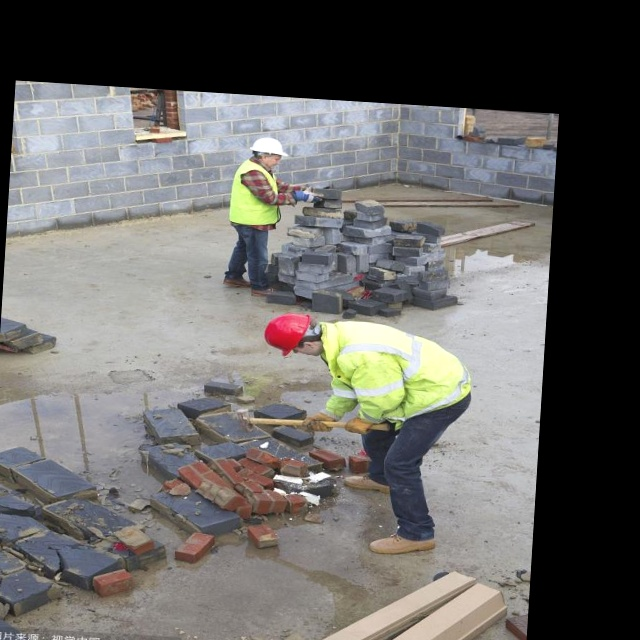Con_Chaleco: (319, 318, 475, 431), (225, 160, 284, 227)
